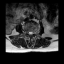CCS_normal: (29, 29, 31, 37)
LFS_normal: (33, 29, 35, 35)
LLS_normal: (31, 29, 33, 36)
RFS_normal: (26, 28, 28, 35)
RLS_normal: (28, 29, 29, 36)
